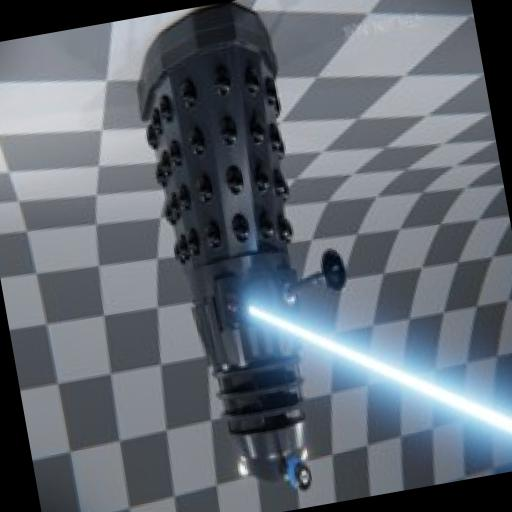dalek: (120, 0, 394, 502)
